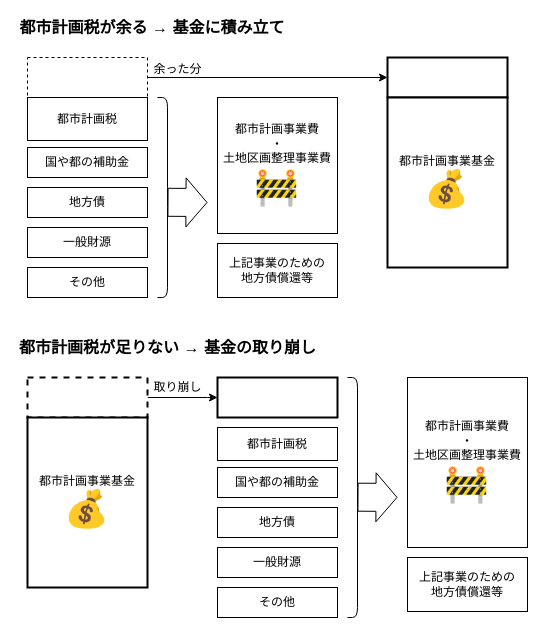
The diagram is 545 pixels wide and 635 high, and some of its shapes have lost their labels. The centre of each missing label's shape, as x and y in pixels:
"都市計画事業基金" goes at (x=277, y=397).
"都市計画事業基金に 積み立て" goes at (x=447, y=77).
